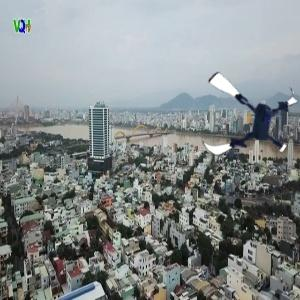drone: (195, 66, 298, 169)
